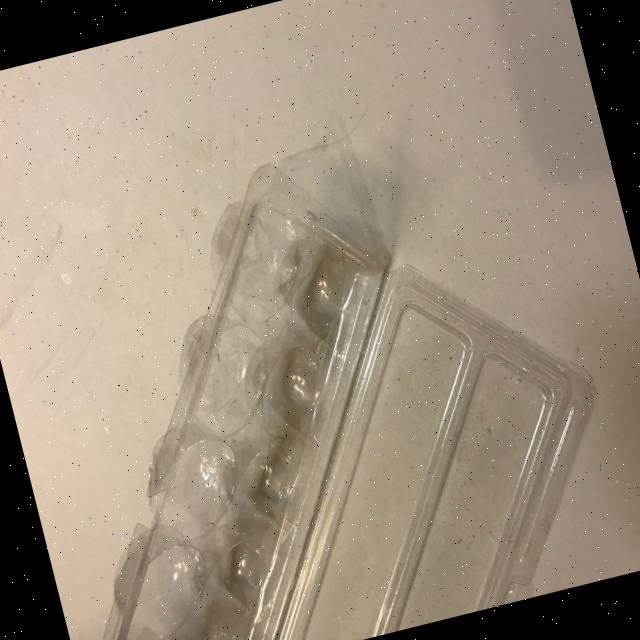plastic: (0, 72, 639, 640)
